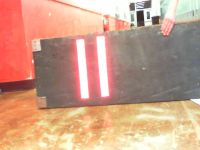switch: (96, 36, 110, 97), (76, 39, 90, 99)
